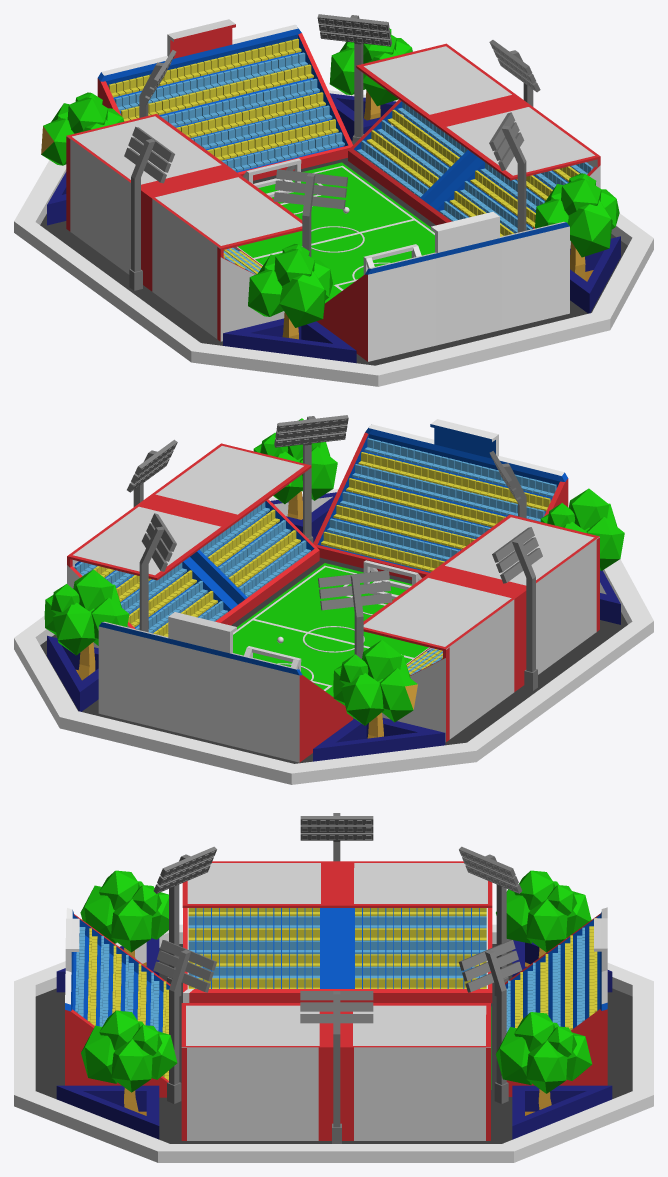
Rendered from football-stadium.fbx.
3 views of the same model, one above another, from view 1: azimuth 30°, elevation 25°; view 2: azimuth 150°, elevation 25°; view 3: azimuth 270°, elevation 25° (orthographic).
Parts seen in each view (by area): view 1: Plane.001, Cube.001, Cube.074, Cube.039, Plane.baru.001, Cube.057, Cube.084, Cube.007, Cube.075, Cube.077, Cube.082, Cube.081 (+23 smaller); view 2: Plane.001, Cube.001, Cube.057, Cube.039, Plane.baru.001, Cube.074, Cube.081, Cube.082, Cube.084, Cube.075, Cube.078, Cube.007 (+23 smaller); view 3: Cube.039, Plane.001, Cube.001, Cube.074, Cube.057, Cube.007, Cube.082, Cube.084, Cube.081, Cube.076, Cube.080, Cube.077 (+25 smaller).
Part boxes in pixels (x1,y1,x2,y2): Plane.001: (14, 90, 653, 386); Cube.001: (66, 113, 302, 341); Cube.074: (316, 211, 569, 361); Cube.039: (348, 43, 600, 248); Plane.baru.001: (238, 162, 434, 303); Cube.057: (97, 19, 352, 180); Cube.084: (248, 244, 332, 339); Cube.007: (535, 173, 619, 279); Cube.075: (124, 126, 174, 290); Cube.077: (317, 14, 391, 144); Cube.082: (329, 28, 412, 120); Cube.081: (41, 92, 123, 165); Plane.001: (14, 489, 653, 784); Cube.001: (363, 514, 599, 742); Cube.057: (98, 612, 352, 762); Cube.039: (67, 443, 319, 647); Plane.baru.001: (233, 563, 428, 696); Cube.074: (313, 419, 568, 580); Cube.081: (333, 640, 417, 738); Cube.082: (44, 569, 129, 680); Cube.084: (540, 488, 624, 570); Cube.075: (492, 527, 542, 690); Cube.078: (318, 570, 392, 719); Cube.007: (253, 418, 337, 519); Cube.039: (181, 1003, 490, 1140); Plane.001: (14, 924, 653, 1162); Cube.001: (182, 861, 492, 1003); Cube.074: (65, 908, 170, 1097); Cube.057: (505, 907, 607, 1096); Cube.007: (81, 1010, 177, 1112); Cube.082: (495, 1012, 592, 1109); Cube.084: (80, 870, 168, 958); Cube.081: (496, 870, 591, 957); Cube.076: (300, 991, 373, 1143); Cube.080: (153, 940, 216, 1103); Cube.077: (458, 940, 522, 1103).
Size of the model in its own units: 1001 by 300 by 1194.
